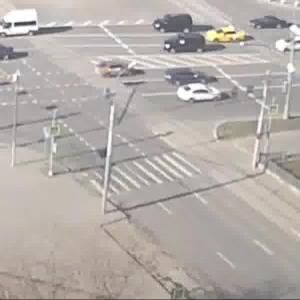car: (94, 57, 148, 83), (1, 9, 45, 37), (178, 80, 223, 107), (151, 15, 195, 40), (162, 36, 209, 59), (163, 69, 223, 84), (242, 14, 294, 31), (206, 27, 247, 46), (275, 32, 300, 55), (1, 36, 22, 61)
